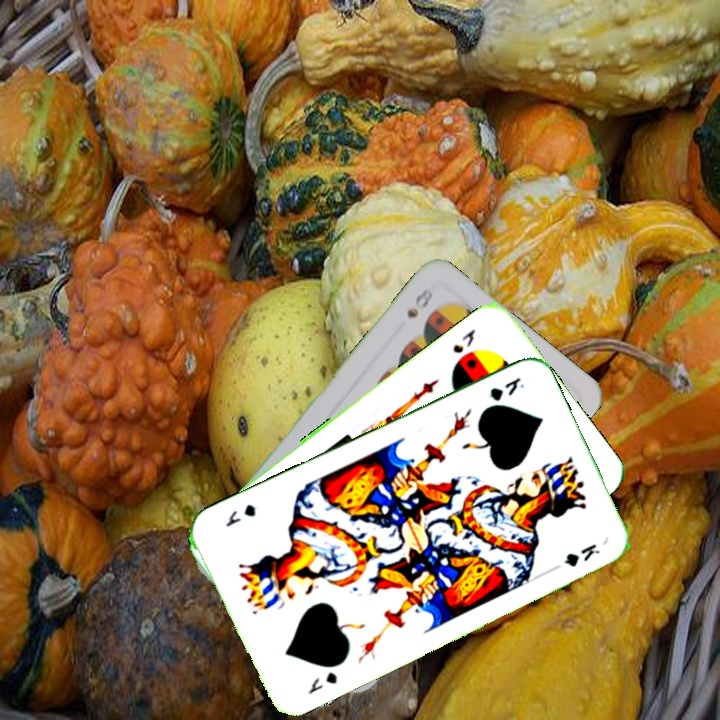GK: (486, 373, 528, 404), (304, 667, 340, 697)
S8: (402, 283, 436, 321)
SK: (448, 324, 478, 356)
